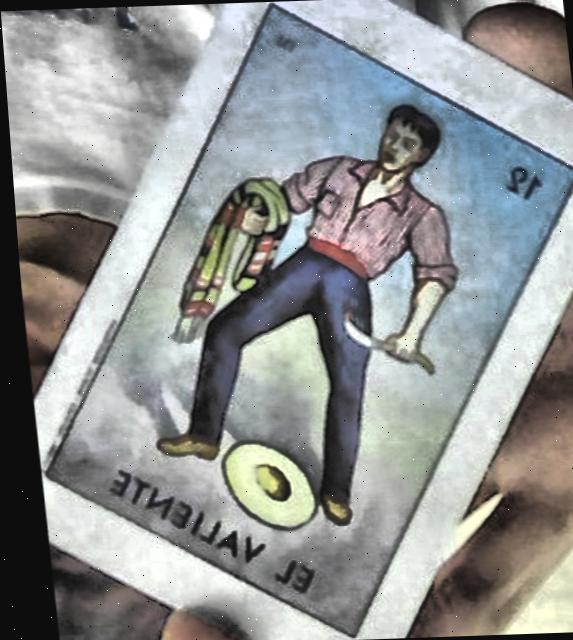El Valiente: (38, 7, 573, 637)
